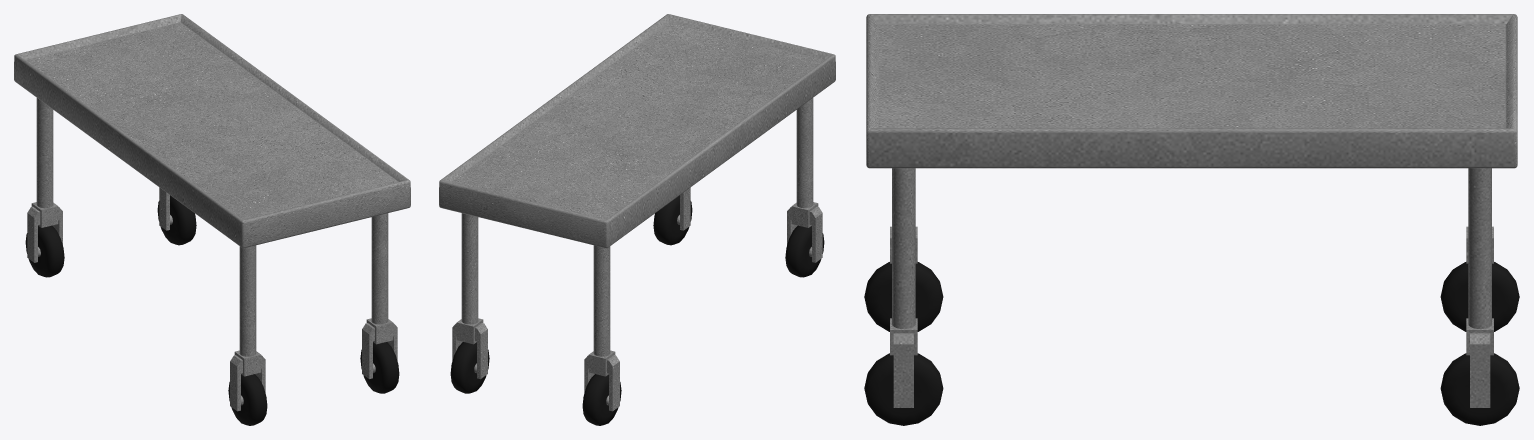
File: Gurney.fbx
3 renders of one model, left to right at view 1: azimuth 30°, elevation 25°; view 2: azimuth 150°, elevation 25°; view 3: azimuth 270°, elevation 25°, orthographic. The views are drawn at different scales.
Visible parts, largest first — view 1: Gurney; view 2: Gurney; view 3: Gurney.
Part boxes in pixels (x1,y1,x2,y2): Gurney: (14,14,410,425); Gurney: (439,14,835,425); Gurney: (864,14,1519,425).
Bounding box in the file's own units: 230 × 281 × 543.
